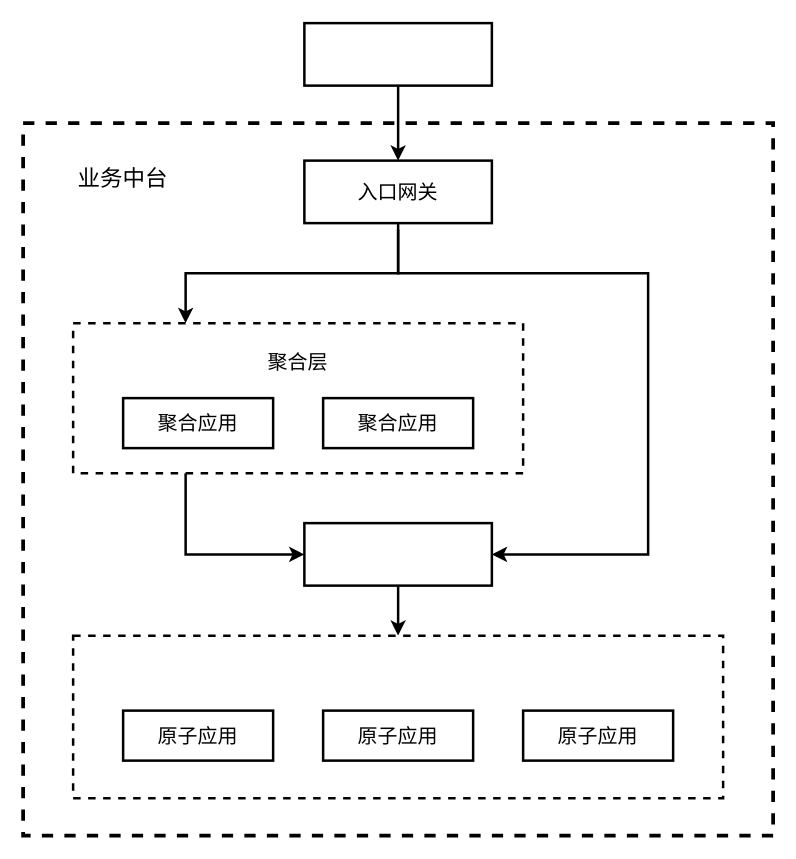
This 796x859 diagram has some shape labels left out. Here are the shapes that lost their labels. From the top down, the box of each, then its label:
(302, 21, 492, 86): 接入方
(302, 521, 492, 586): 原子层网关
(71, 634, 724, 799): 原子层
